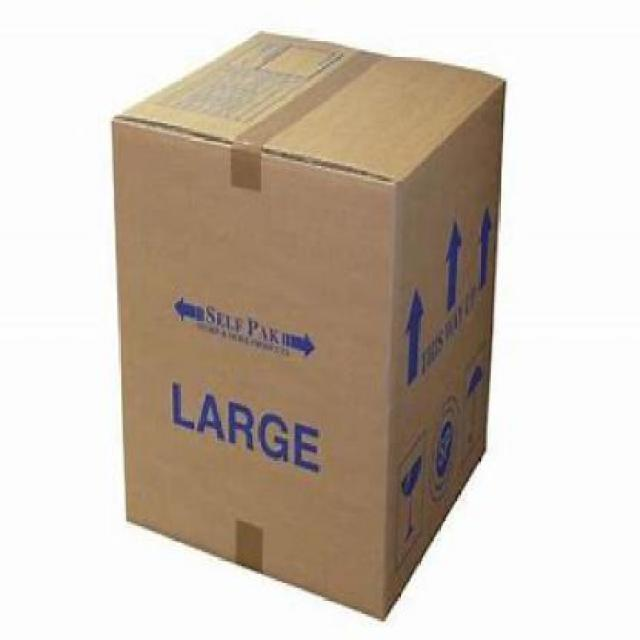box: (108, 25, 504, 620)
